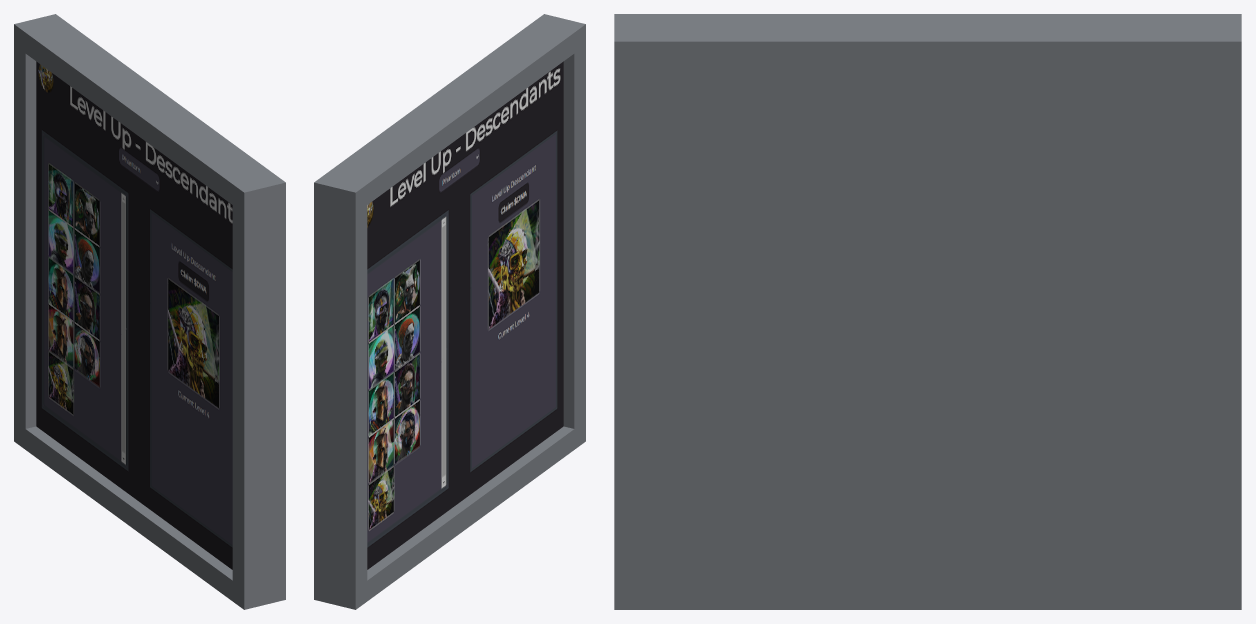
Rendered from levelup.glb.
3 views of the same model, side by side, from view 1: azimuth 30°, elevation 25°; view 2: azimuth 150°, elevation 25°; view 3: azimuth 270°, elevation 25° (orthographic). The views are drawn at different scales.
Visible parts, largest first — view 1: NFTFrame14.001; view 2: NFTFrame14.001; view 3: NFTFrame14.001.
Boxes of the visible parts, x1=… form: NFTFrame14.001: x1=14, y1=14, x2=285, y2=609; NFTFrame14.001: x1=314, y1=14, x2=585, y2=609; NFTFrame14.001: x1=614, y1=14, x2=1241, y2=609.
Bounding box in the file's own units: 0.0471 × 0.45 × 0.45.
2 materials, 1 textured.
